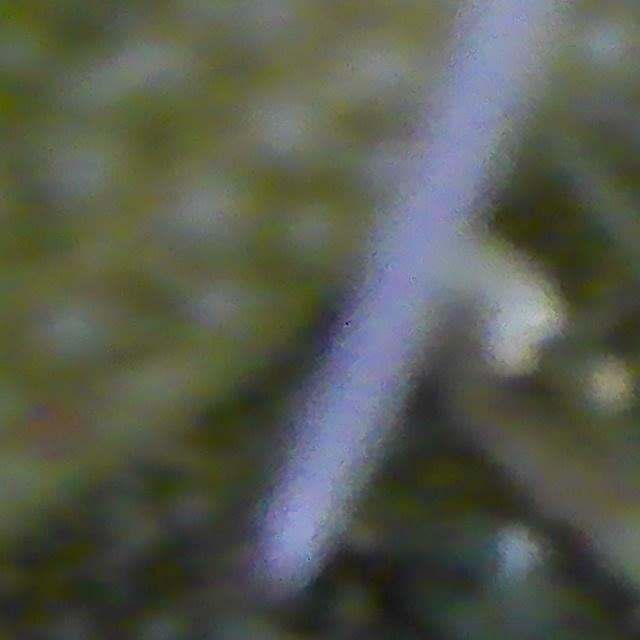SeaGrape: (240, 89, 351, 199), (165, 177, 274, 270), (53, 132, 151, 220), (28, 311, 124, 399), (272, 200, 367, 286), (0, 9, 59, 90)
